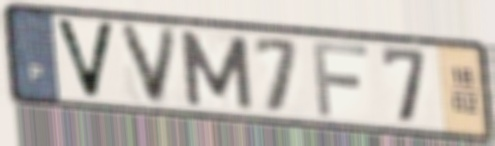7: (379, 44, 432, 127), (251, 35, 303, 115)
F: (309, 39, 372, 120)
M: (175, 28, 257, 113)
V: (51, 15, 119, 103), (114, 20, 182, 108)
